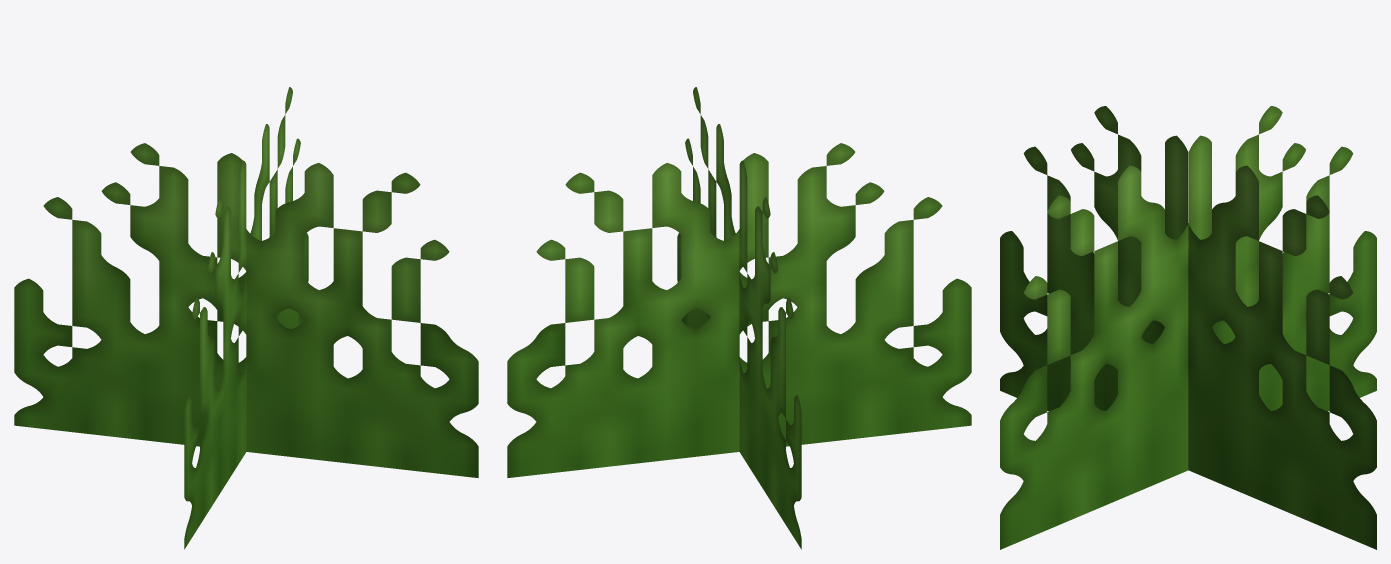
Rendered from grass.fbx.
3 renders of one model, left to right at view 1: azimuth 30°, elevation 25°; view 2: azimuth 150°, elevation 25°; view 3: azimuth 270°, elevation 25°, orthographic. The views are drawn at different scales.
Visible parts, largest first — view 1: Grass; view 2: Grass; view 3: Grass.
Boxes of the visible parts, bbox=[...] form: Grass: bbox=[14, 87, 478, 549]; Grass: bbox=[507, 87, 971, 549]; Grass: bbox=[1000, 106, 1376, 549].
Bounding box in the file's own units: 3.43 × 3.78 × 3.43.
